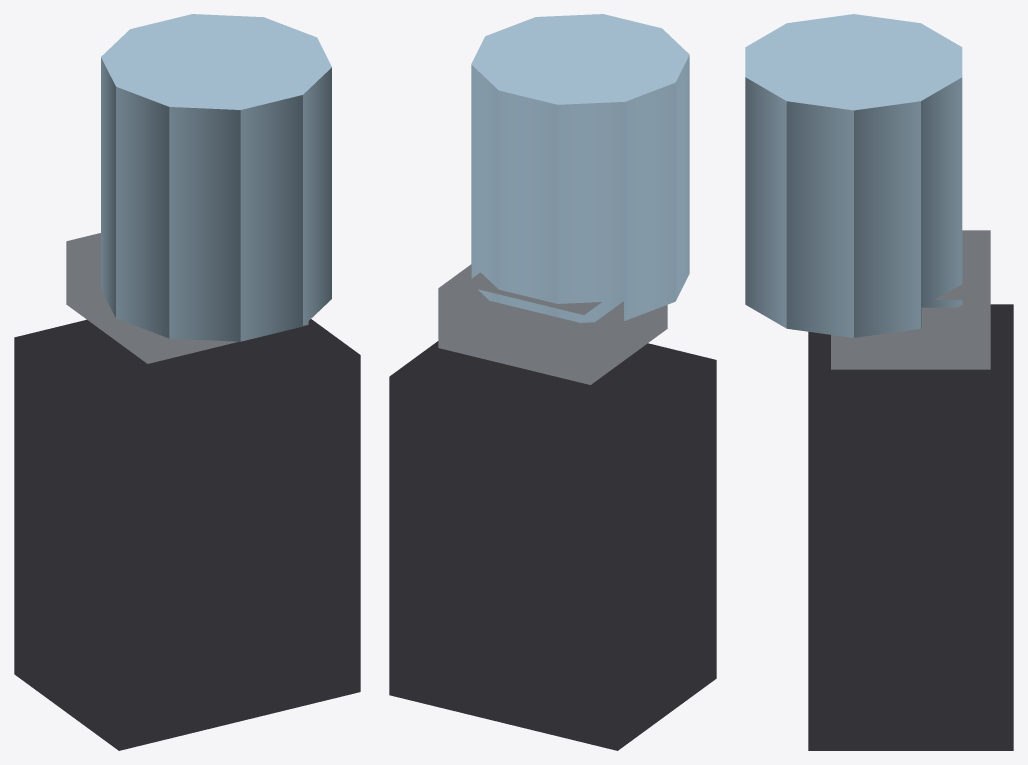
The model's file is garage-coffee-drip.obj.
3 views of the same model, side by side, from view 1: azimuth 30°, elevation 25°; view 2: azimuth 150°, elevation 25°; view 3: azimuth 270°, elevation 25° (orthographic). The views are drawn at different scales.
Parts seen in each view (by area): view 1: garage-coffee-drip; view 2: garage-coffee-drip; view 3: garage-coffee-drip.
Boxes of the visible parts, <box> form: garage-coffee-drip: <box>14,14,360,750</box>; garage-coffee-drip: <box>389,14,716,750</box>; garage-coffee-drip: <box>745,14,1013,750</box>.
Bounding box in the file's own units: 0.24 × 0.61 × 0.2351.
